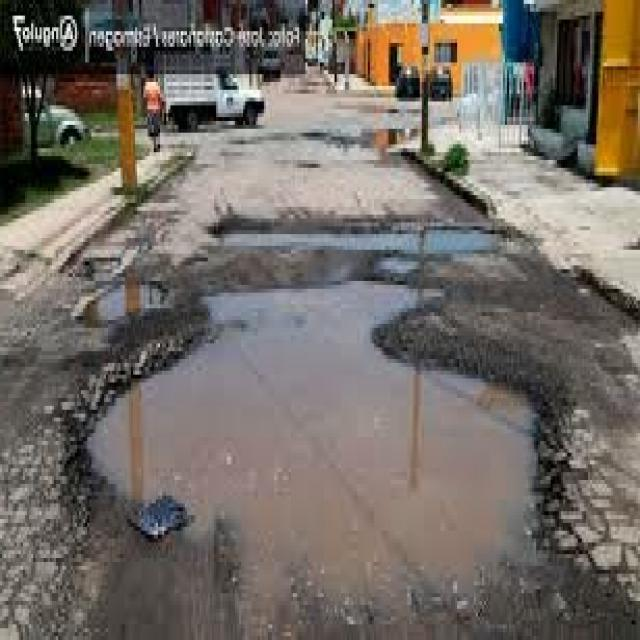pothole: (0, 199, 609, 636)
